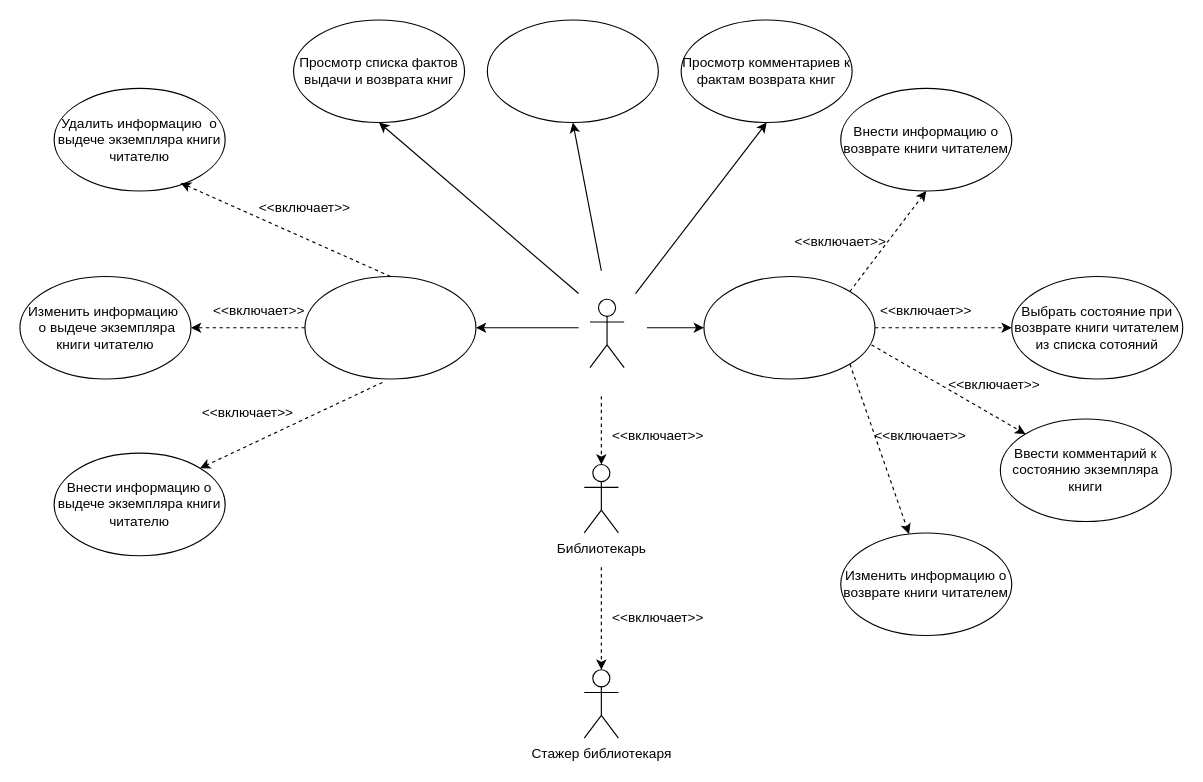
The diagram is 1203 pixels wide and 782 high, and some of its shapes have lost their labels. The centre of each missing label's shape, as x and y in pixels:
Администратор: the point at 606,333
Поиск по фактам выдачи и возврата книг: the point at 572,71
Регистрация факта возврата книги читателем: the point at 789,327
Регистрация факта выдачи книги читателю: the point at 390,327
